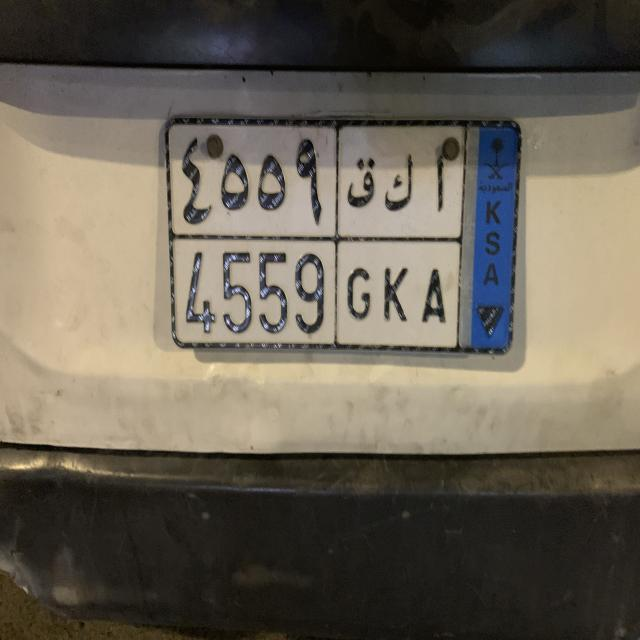license_plate: (162, 112, 526, 375)
